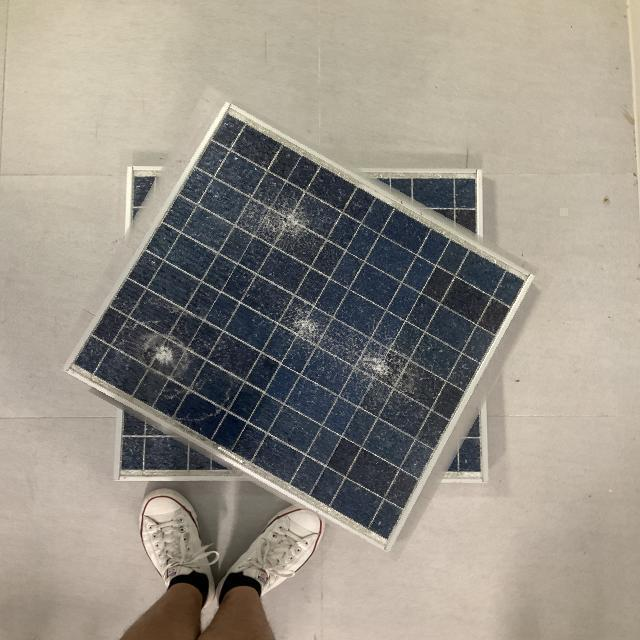Anomaly Solar Panel: (72, 110, 535, 548)
Structural Damage: (268, 283, 423, 408), (242, 181, 334, 254), (130, 321, 199, 383)
